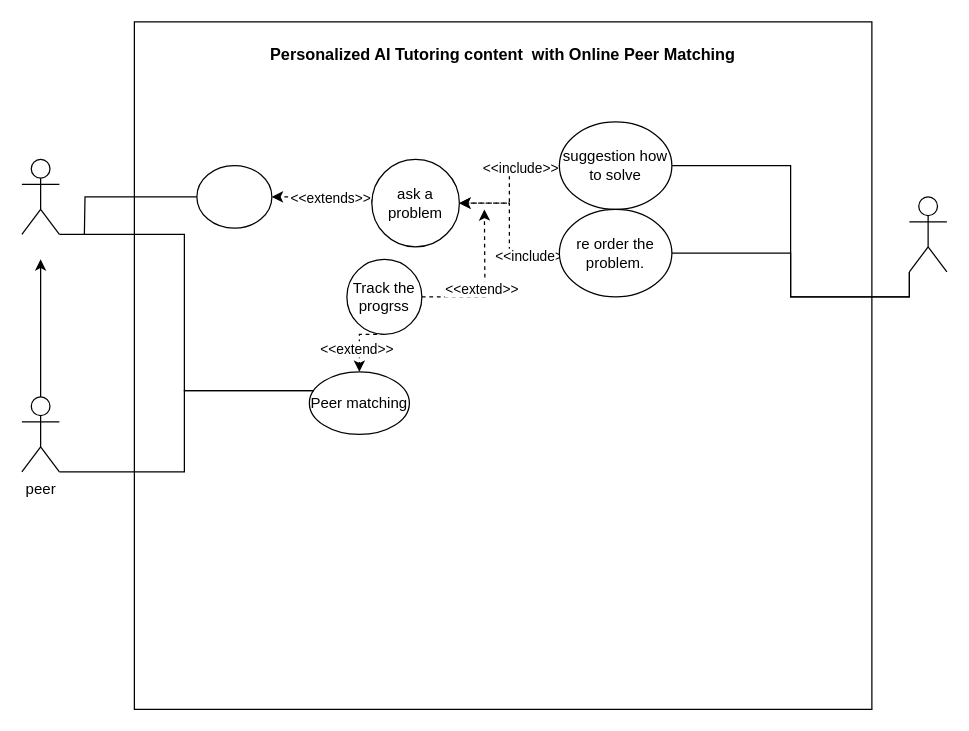
This 969x731 diagram has some shape labels left out. The centre of each missing label's shape, as x and y in pixels:
"AI" belongs at point 927,234.
"login" belongs at point 234,196.
"User" belongs at point 40,196.
